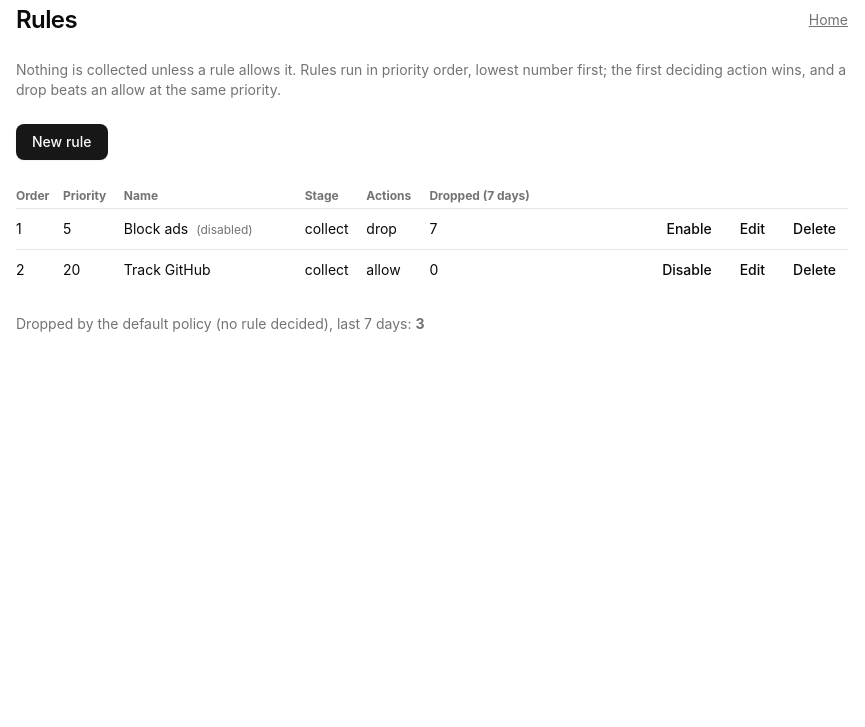
Scenario: rules page › shows the problems of an invalid rule and sends nothing
Click the button "New rule" at coordinates (62, 142), box [16,124,108,160]
(page scrolled)
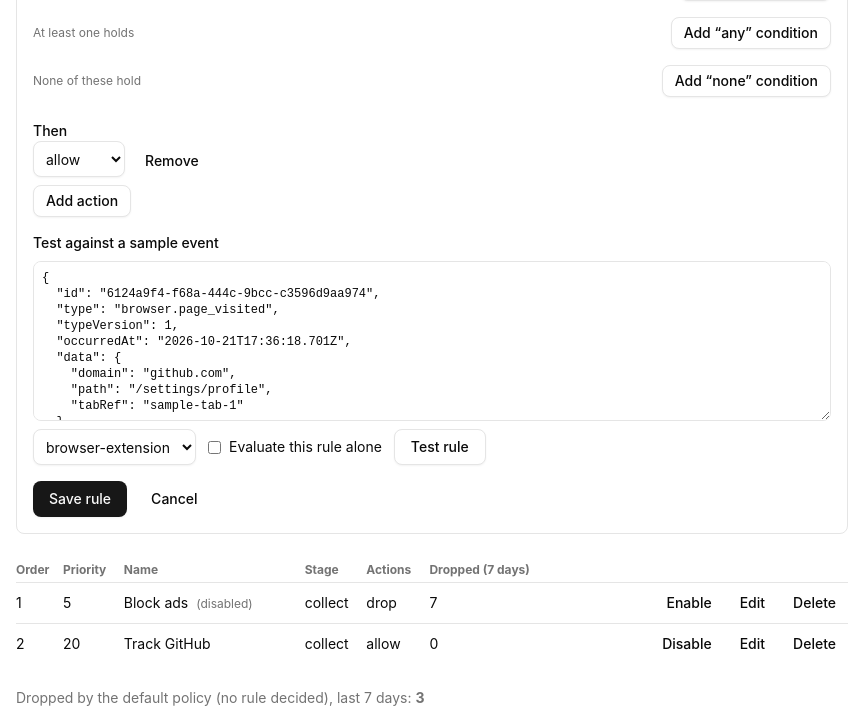
Click the button "Save rule" at coordinates (80, 499), box [33,481,127,517]
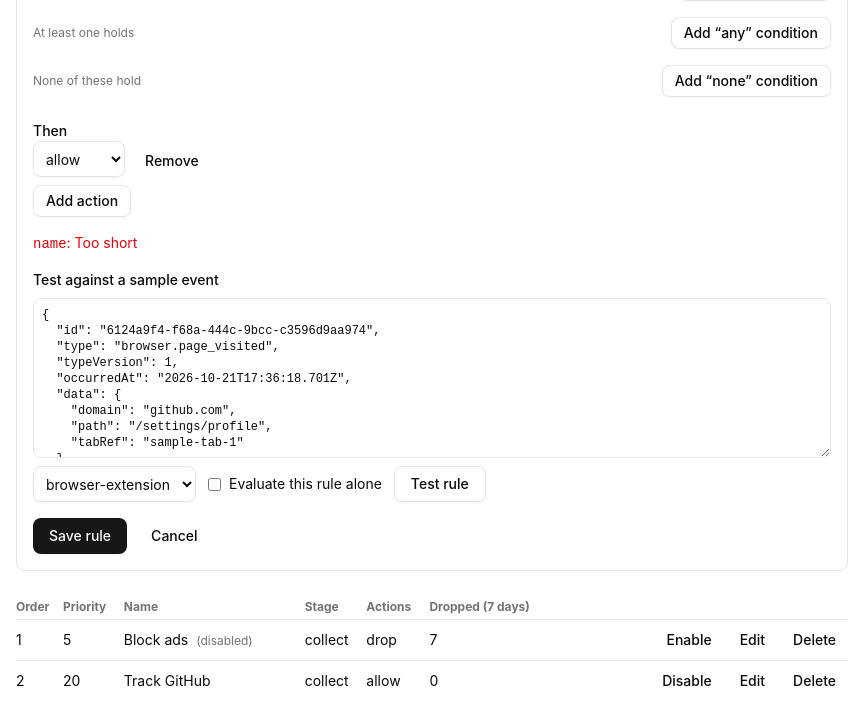
Check: the message named "problems with this rule" shows "name", box [33,236,67,252]
